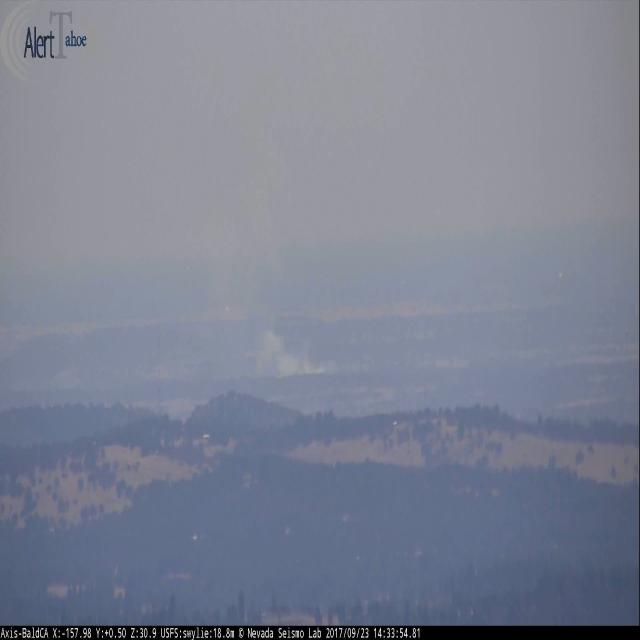smoke: (255, 327, 345, 378)
